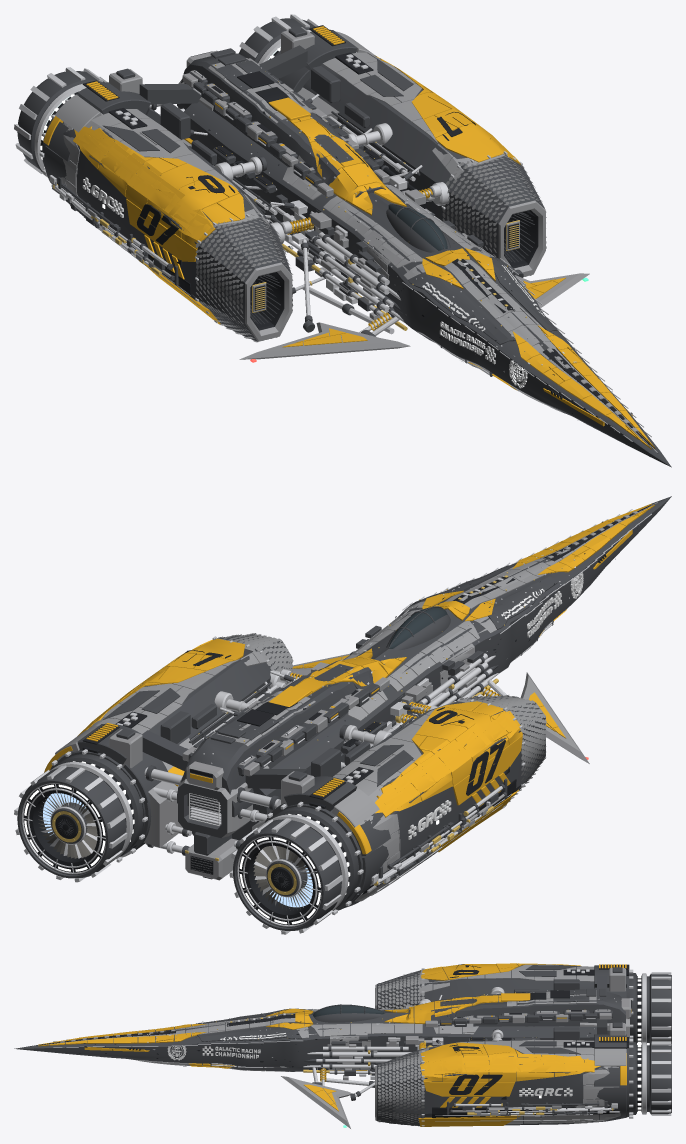
The model's file is fulgur07_vitrine.glb.
3 renders of one model, top to bottom at view 1: azimuth 30°, elevation 25°; view 2: azimuth 150°, elevation 25°; view 3: azimuth 270°, elevation 25°, orthographic. The views are drawn at different scales.
Visible parts, largest first — view 1: M_F7_ANTHRA, M_F7_ARGENT, M_F7_JAUNE, M_F7_ACIER, M_F7_NOIR, M_F7_NID, M_F7_BLANC, M_F7_LAITON, M_SR_VERRIERE; view 2: M_F7_ANTHRA, M_F7_ARGENT, M_F7_JAUNE, M_F7_ACIER, M_F7_NOIR, M_F7_NID, M_F7_FAN, M_F7_BLANC, M_F7_LUM, M_F7_LAITON, M_KV_GLOW_MOTEUR, M_SR_VERRIERE; view 3: M_F7_ANTHRA, M_F7_JAUNE, M_F7_ARGENT, M_F7_ACIER, M_F7_NOIR, M_F7_NID, M_F7_BLANC, M_SR_VERRIERE, M_F7_LUM, M_F7_LAITON.
Boxes of the visible parts, <box> form: M_F7_ANTHRA: <box>17,18,671,467</box>; M_F7_ARGENT: <box>50,27,658,453</box>; M_F7_JAUNE: <box>43,26,655,449</box>; M_F7_ACIER: <box>14,14,651,441</box>; M_F7_NOIR: <box>38,25,654,448</box>; M_F7_NID: <box>195,154,546,342</box>; M_F7_BLANC: <box>82,177,582,388</box>; M_F7_LAITON: <box>53,64,553,351</box>; M_SR_VERRIERE: <box>388,205,447,250</box>; M_F7_ANTHRA: <box>17,496,671,930</box>; M_F7_ARGENT: <box>55,502,657,901</box>; M_F7_JAUNE: <box>44,503,654,854</box>; M_F7_ACIER: <box>14,509,651,934</box>; M_F7_NOIR: <box>21,504,654,926</box>; M_F7_NID: <box>216,633,546,808</box>; M_F7_FAN: <box>38,793,312,910</box>; M_F7_BLANC: <box>189,562,583,839</box>; M_F7_LUM: <box>24,739,547,924</box>; M_F7_LAITON: <box>52,560,562,894</box>; M_KV_GLOW_MOTEUR: <box>43,793,312,907</box>; M_SR_VERRIERE: <box>388,607,447,648</box>; M_F7_ANTHRA: <box>14,965,671,1125</box>; M_F7_JAUNE: <box>38,963,631,1126</box>; M_F7_ARGENT: <box>32,964,631,1128</box>; M_F7_ACIER: <box>53,968,671,1126</box>; M_F7_NOIR: <box>37,964,641,1117</box>; M_F7_NID: <box>378,972,424,1126</box>; M_F7_BLANC: <box>167,1011,572,1096</box>; M_SR_VERRIERE: <box>313,1004,384,1017</box>; M_F7_LUM: <box>637,974,641,1113</box>; M_F7_LAITON: <box>182,992,613,1116</box>.
Size of the model in its own units: 40.4 by 15.22 by 99.95.
